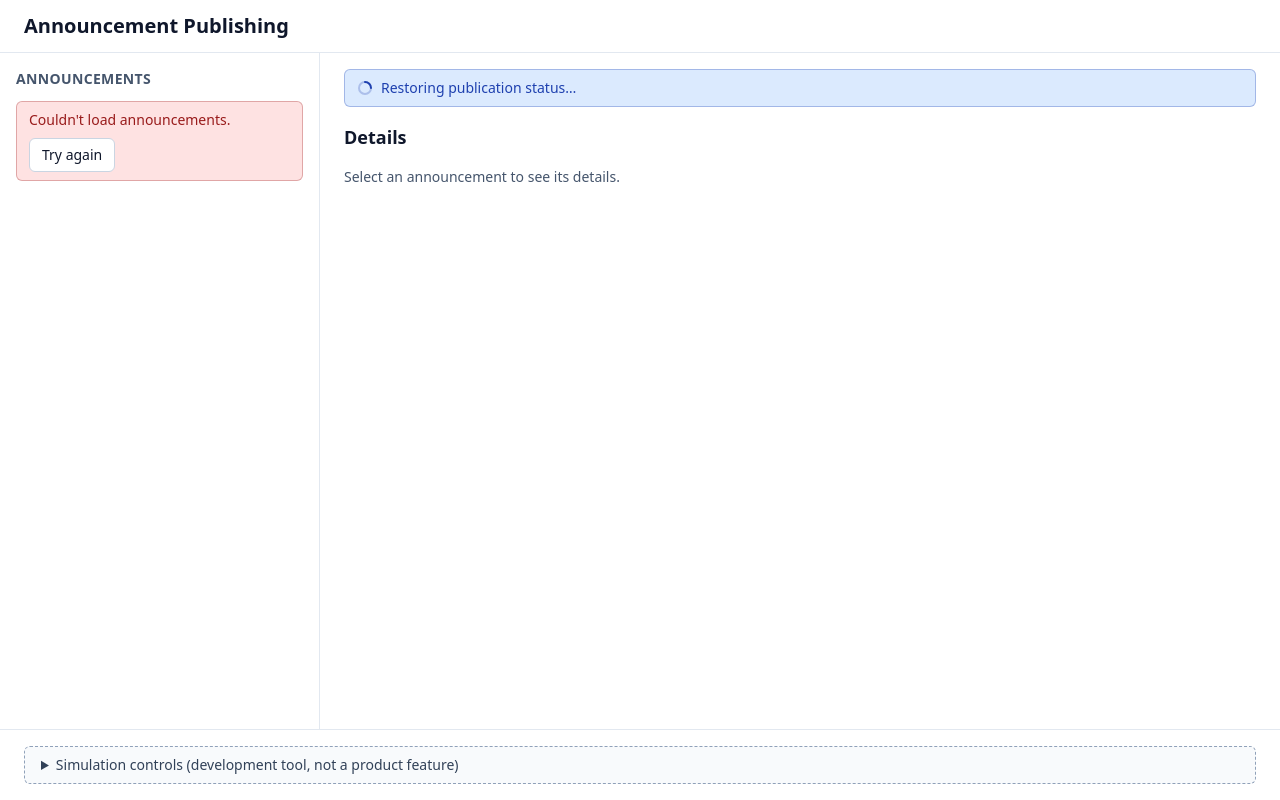
it: announcement loading › shows an error with Try again, which loads the list
The image size is (1280, 800).
Expected: the message "Couldn't load announcements. Try again" is shown, 16,101 -> 303,181
Click the button "Try again" at (72, 155), box 29,138 -> 115,172
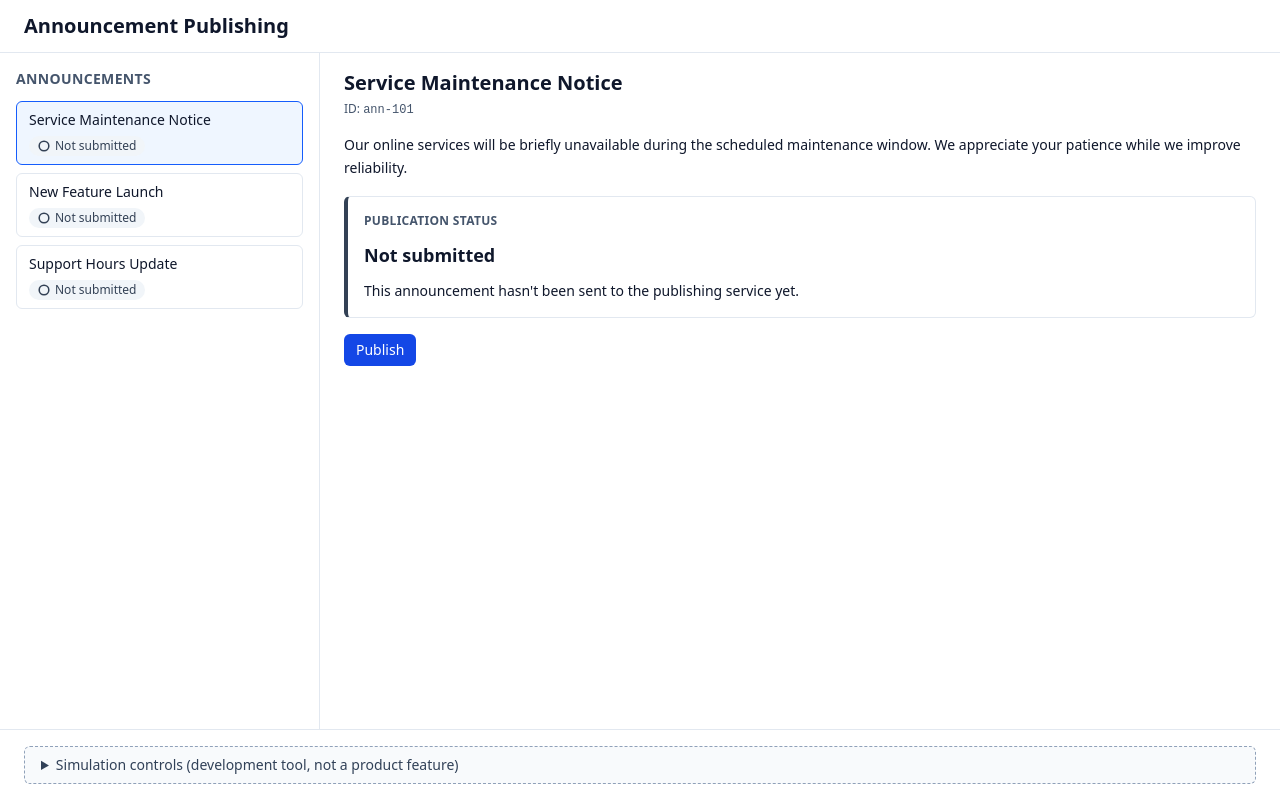
Now the text "Service Maintenance Notice" is shown, box 29,110 -> 211,130
Now the message "Couldn't load announcements. Try again" is gone
